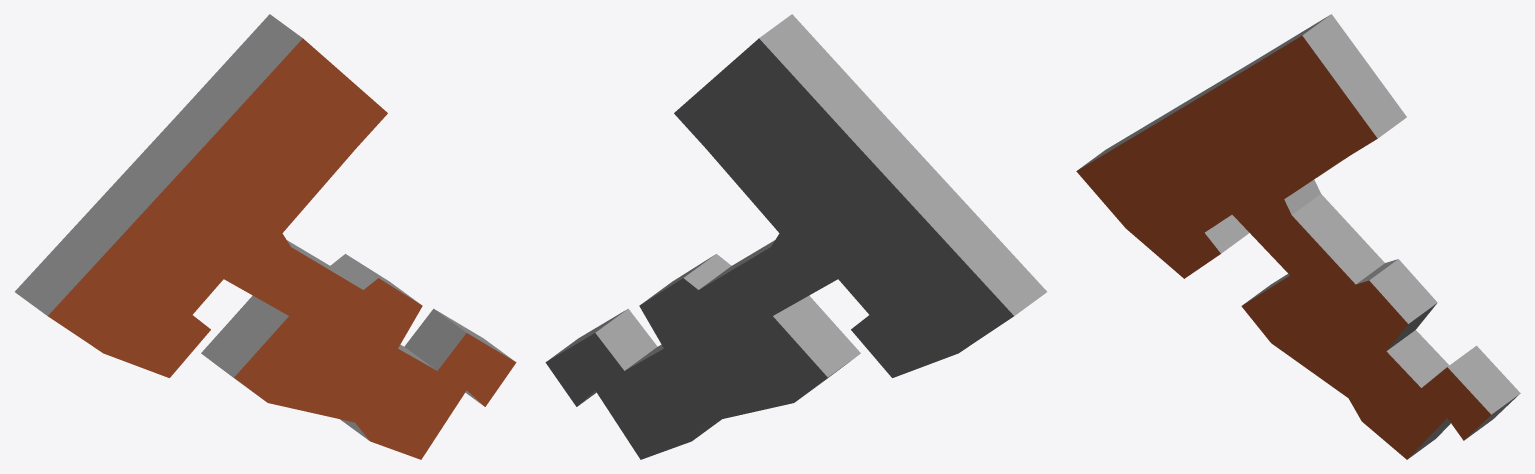
File: construction_4100_assumed_A_Casa_h6m.obj
3 views of the same model, side by side, from view 1: azimuth 30°, elevation 25°; view 2: azimuth 150°, elevation 25°; view 3: azimuth 330°, elevation 25° (orthographic). The views are drawn at different scales.
Visible parts, largest first — view 1: construction_4100_assumed_A_Casa; view 2: construction_4100_assumed_A_Casa; view 3: construction_4100_assumed_A_Casa.
Part boxes in pixels (bbox=[...]): construction_4100_assumed_A_Casa: bbox=[15, 14, 516, 459]; construction_4100_assumed_A_Casa: bbox=[545, 14, 1046, 459]; construction_4100_assumed_A_Casa: bbox=[1076, 14, 1520, 459].
Bounding box in the file's own units: 48.97 × 44.97 × 6.
